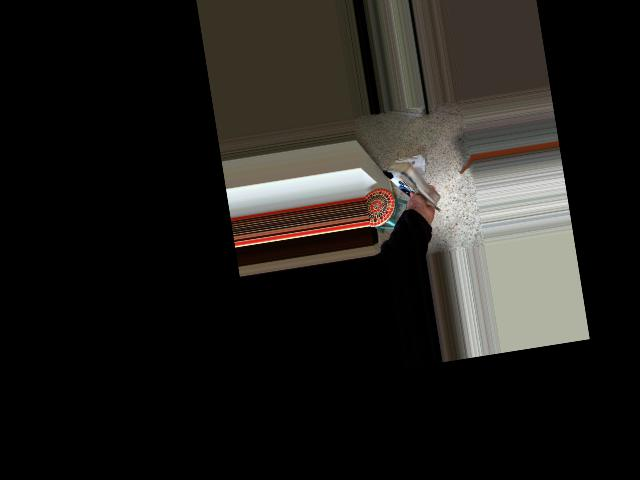cheese: (372, 146, 450, 230)
